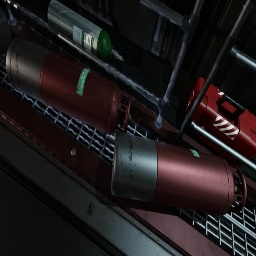0: (47, 0, 124, 62)
FirstAidBox ,: (185, 77, 256, 168)
NitrogenTank ,: (6, 37, 132, 135), (111, 132, 247, 216)
